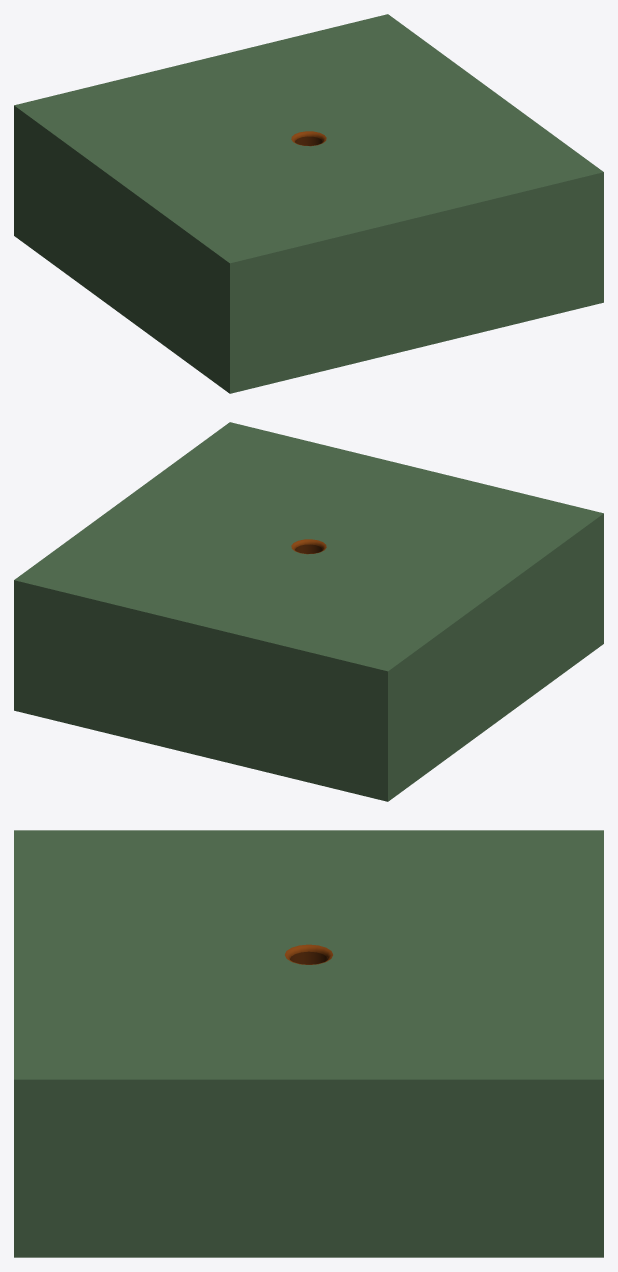
File: golf-ball-hole.glb
3 views of the same model, one above another, from view 1: azimuth 30°, elevation 25°; view 2: azimuth 150°, elevation 25°; view 3: azimuth 270°, elevation 25° (orthographic). The views are drawn at different scales.
Visible parts, largest first — view 1: Cube.004; view 2: Cube.004; view 3: Cube.004.
Boxes of the visible parts, <box> form: Cube.004: <box>14,14,603,393</box>; Cube.004: <box>14,422,603,801</box>; Cube.004: <box>14,830,603,1257</box>.
Bounding box in the file's own units: 3 × 1 × 3.
